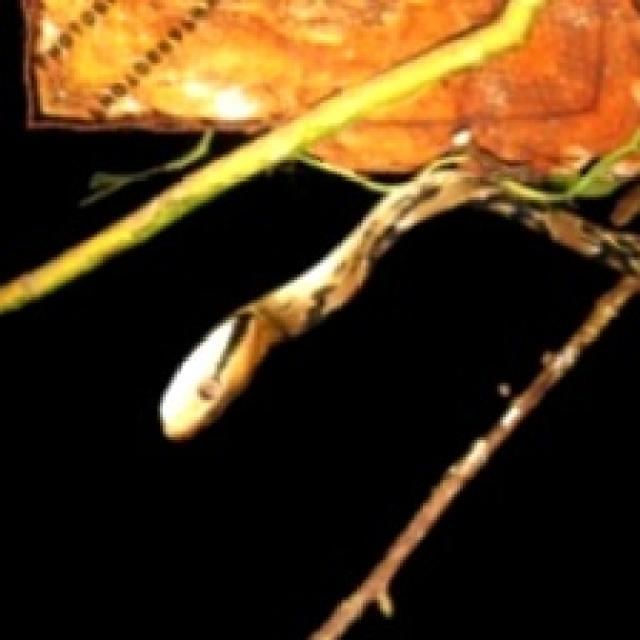dog-toothed cat snake: (160, 155, 640, 439)
